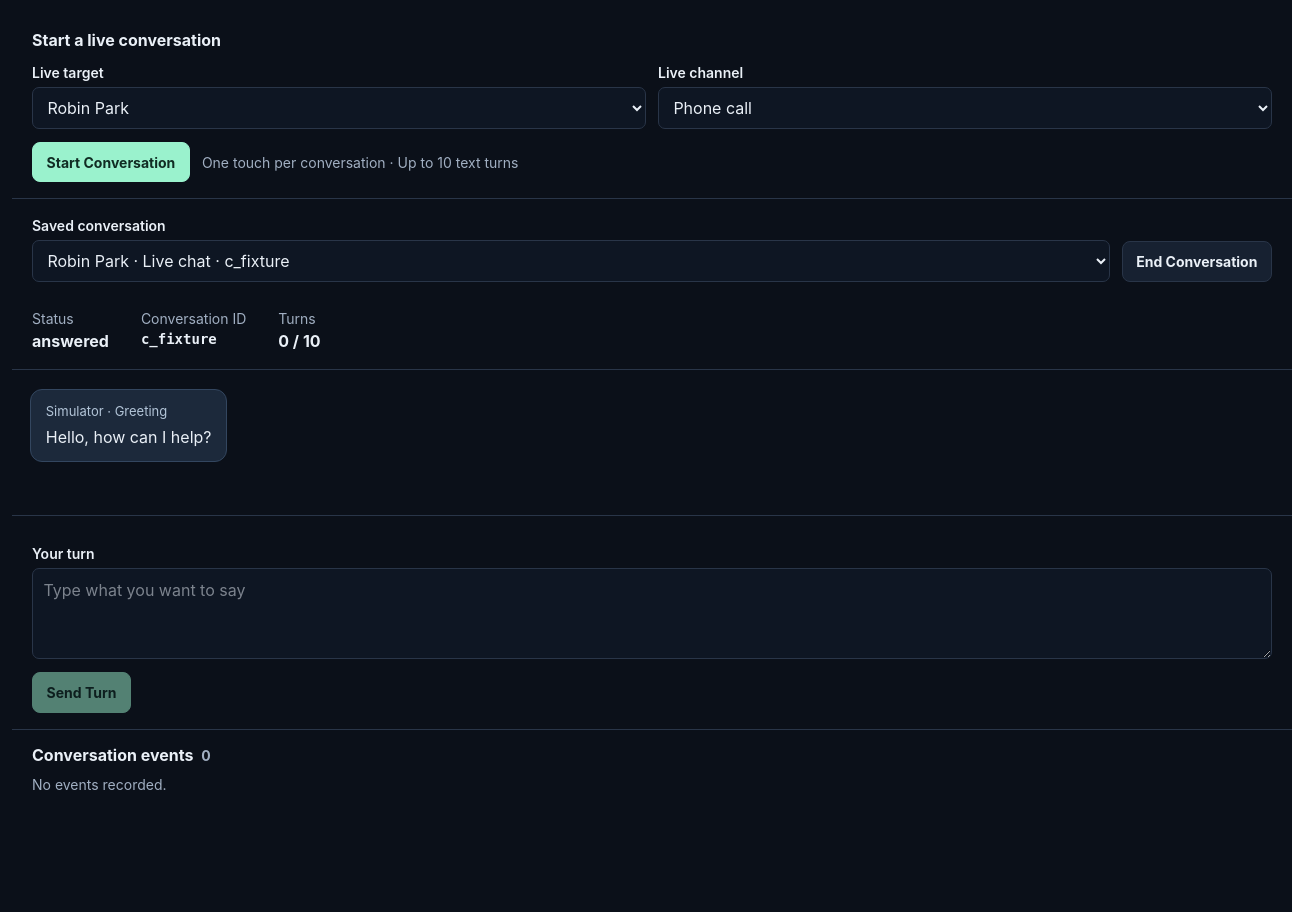
Live Conversations › retries a timed-out Turn with the same payload and key after a reload
The width and height of the screenshot is (1292, 912).
Later steps or results of the test are not shown.
In the text box labelled "Your turn": x=652, y=614 top-left (32, 568), bottom-right (1272, 659), type "One practice turn."
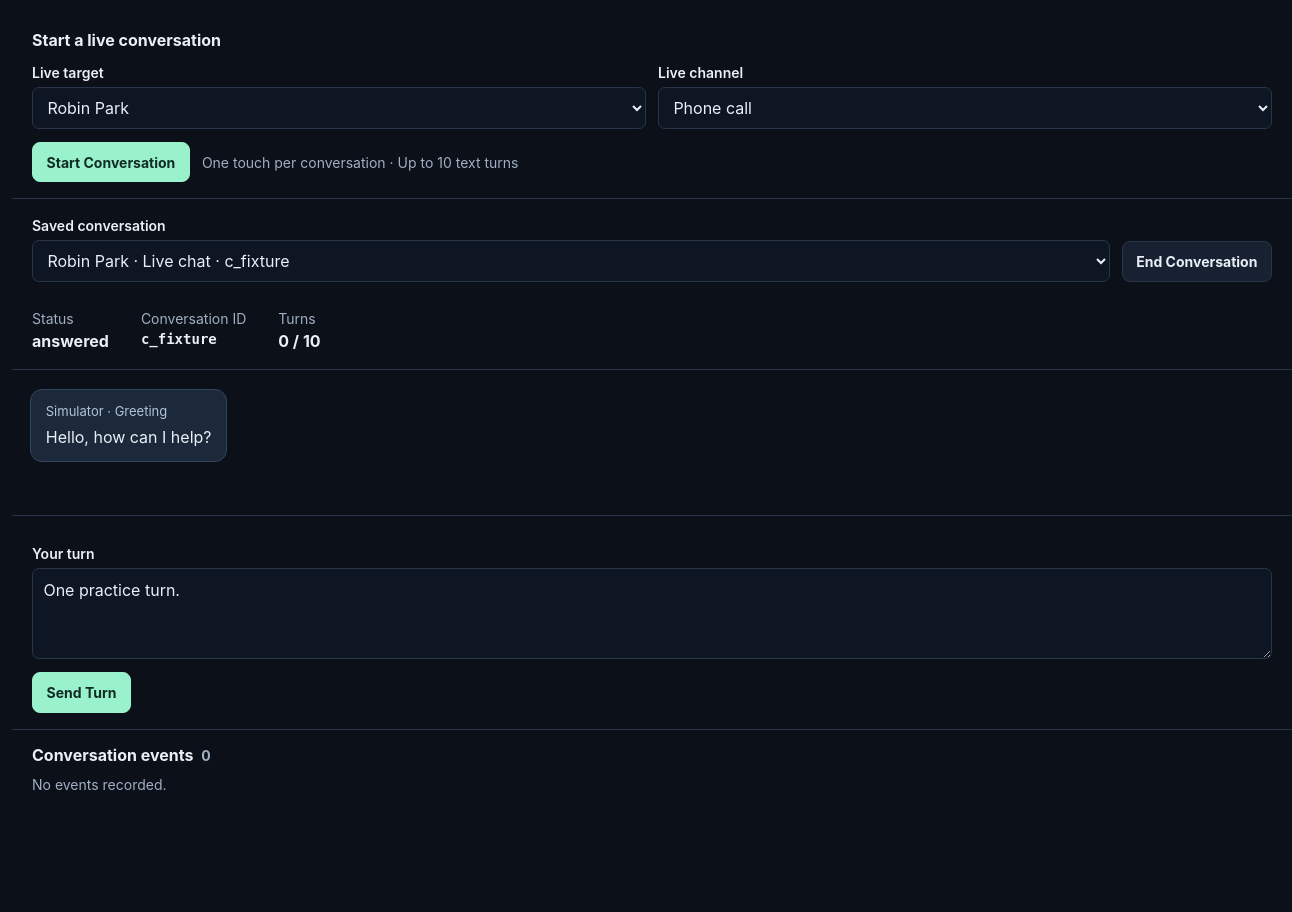
Click the button "Send Turn": x=82, y=692 top-left (32, 672), bottom-right (131, 713)
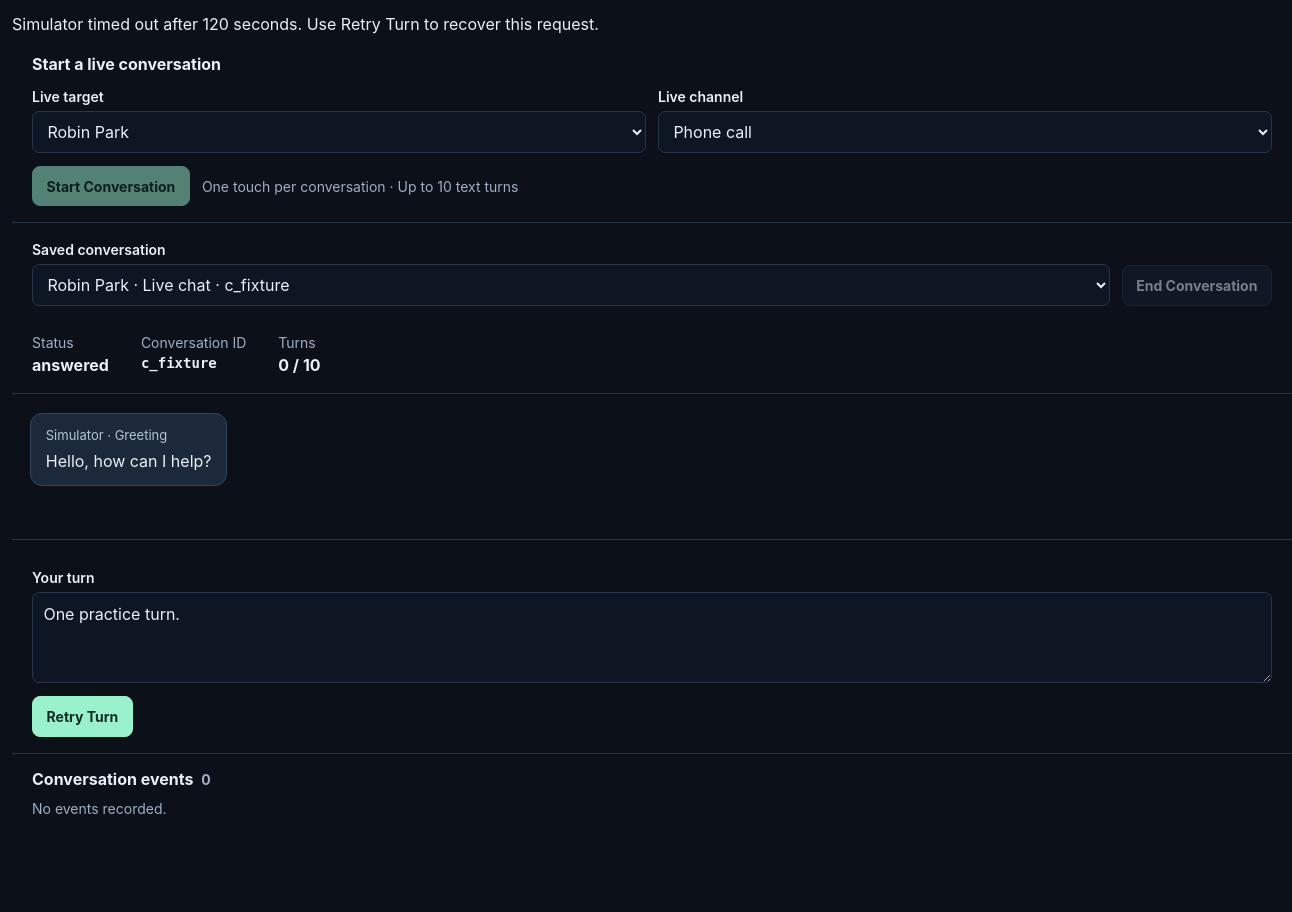
Check: the message shows "Retry Turn", box top-left (12, 14), bottom-right (599, 34)
